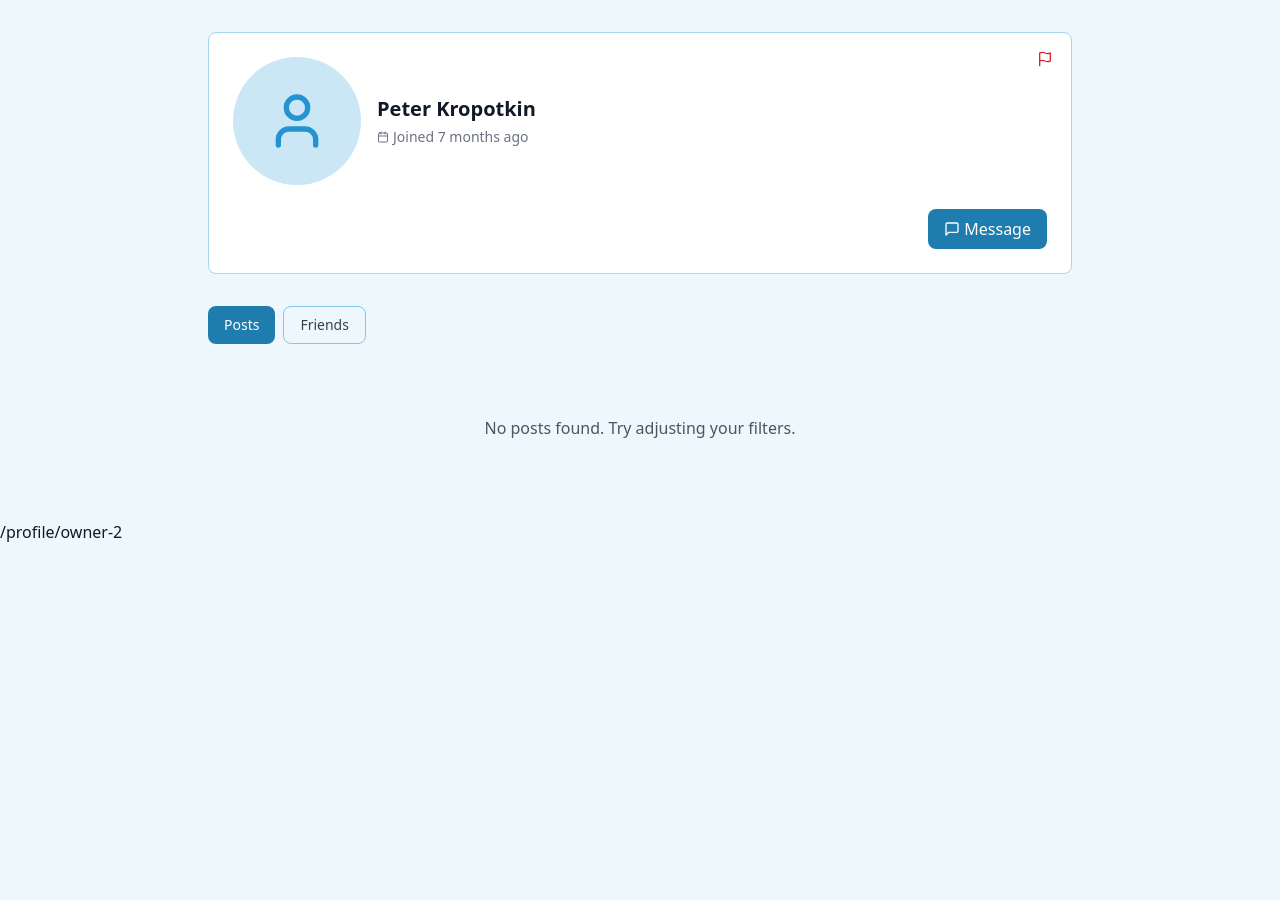
ProfilePage report flag › cancels without submitting when the Cancel button is clicked
What coordinates should you click on to do the following:
click the button named "report user"
I would click on:
 (1045, 59)
Its box is [1031,45,1059,73].
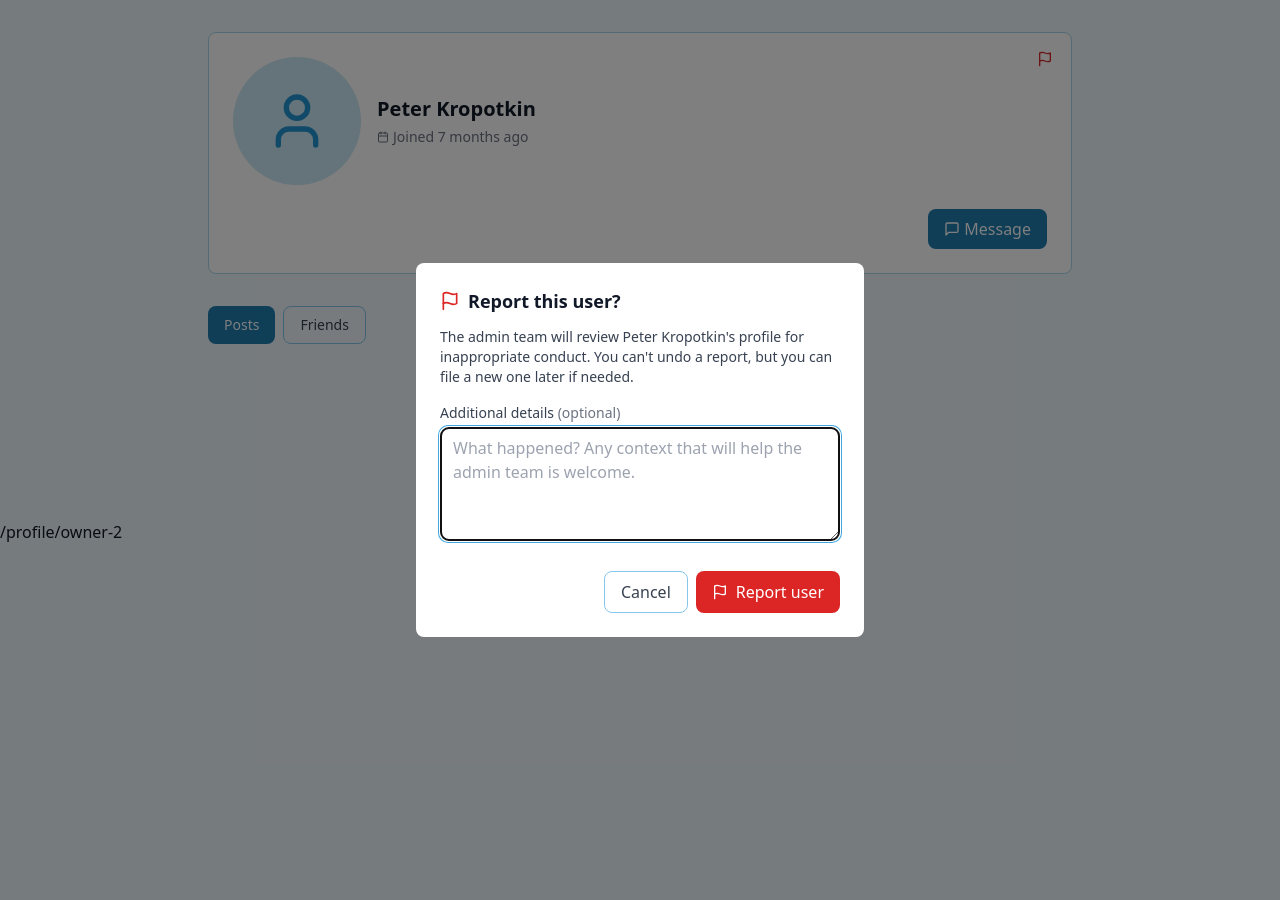
What coordinates should you click on to do the following:
click the button "Cancel"
I would click on:
 (646, 592)
Its box is [604,571,688,613].
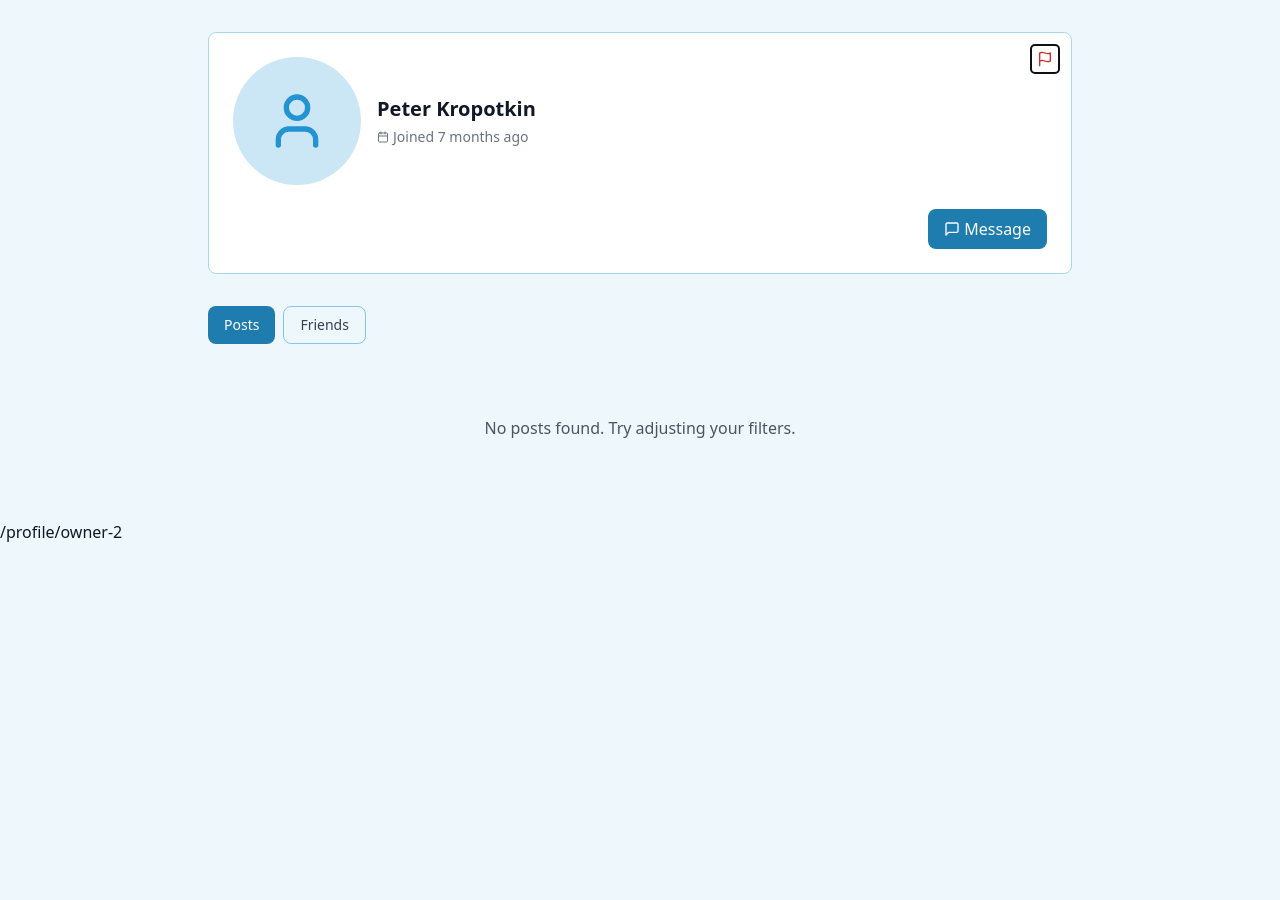
Now the heading "Report this user?" is gone
